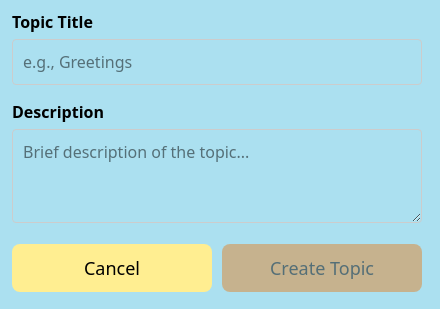
Test: CreateTopicForm Component › enables submit button when title is filled
The width and height of the screenshot is (440, 309).
Type "Numbers" into the field with placeholder "e.g., Greetings" at x=217, y=62, box [12, 39, 422, 85]
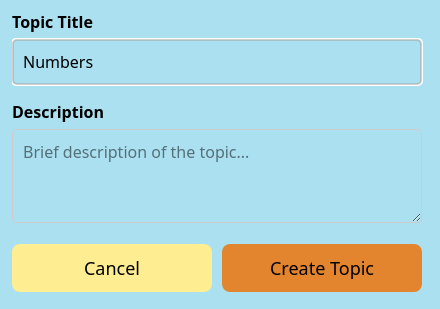
Expected: the button "Create Topic" is enabled, [222, 244, 422, 292]
